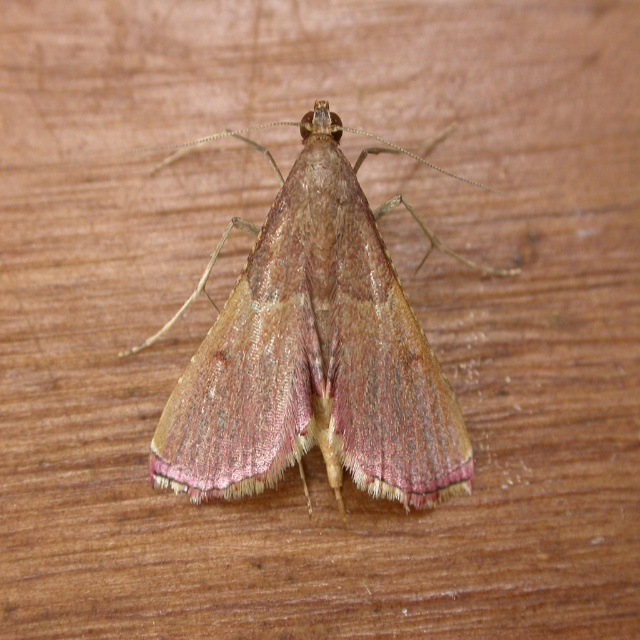Moths and butterflies: (118, 99, 522, 521)
